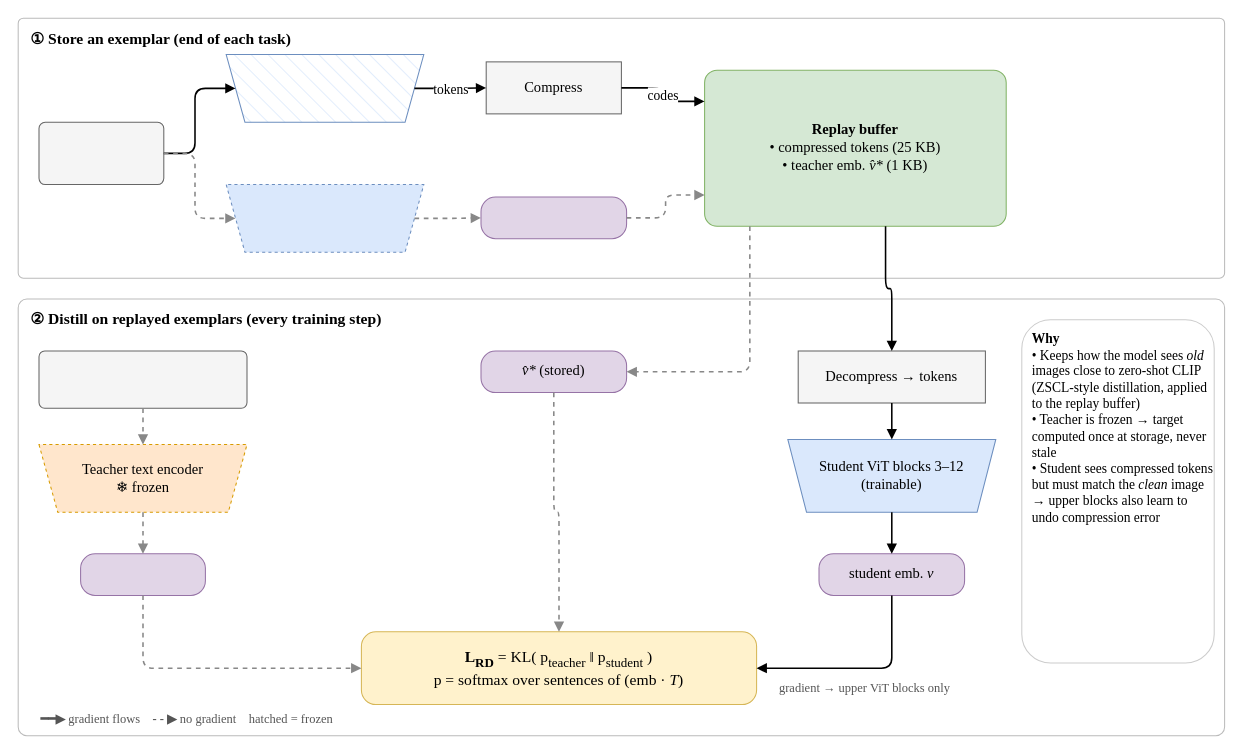
The diagram is 1243 pixels wide and 754 high, and some of its shapes have lost their labels. The centre of each missing label's shape, as x and y in pixels:
"Image x" goes at point 101,153.
"Reference sentences (generic captions)" goes at point 142,379.
"Student ViT blocks 1–2 ❄ frozen" goes at point 324,88.
"teacher emb. v̂*" goes at point 553,217.
"text emb. T" goes at point 142,574.
"Zero-shot CLIP ❄ frozen teacher" goes at point 324,218.
